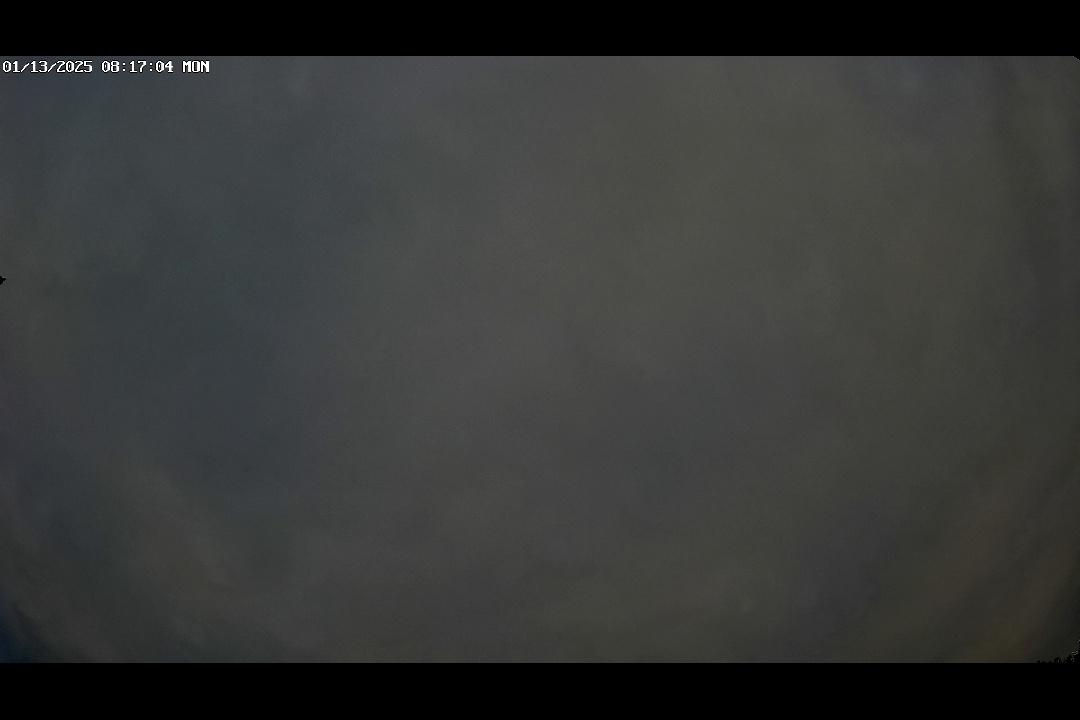WildLife: (0, 268, 12, 288)
